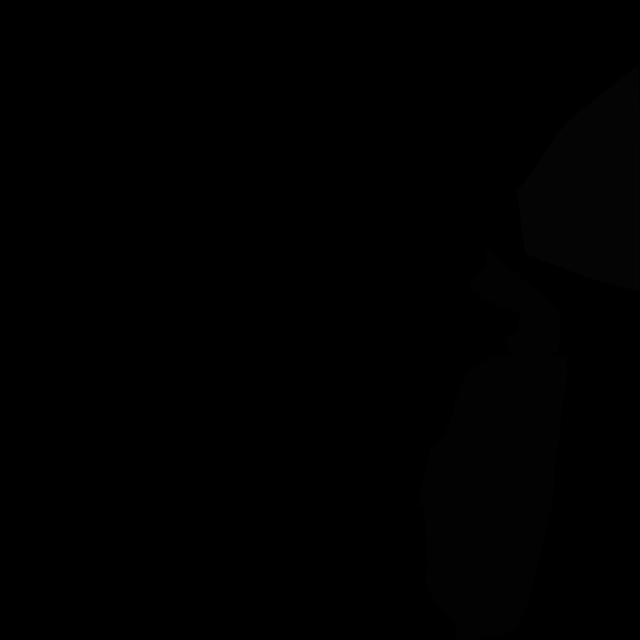cardboard: (418, 352, 567, 640), (470, 247, 561, 355)
soft_plastic: (517, 65, 640, 292)
